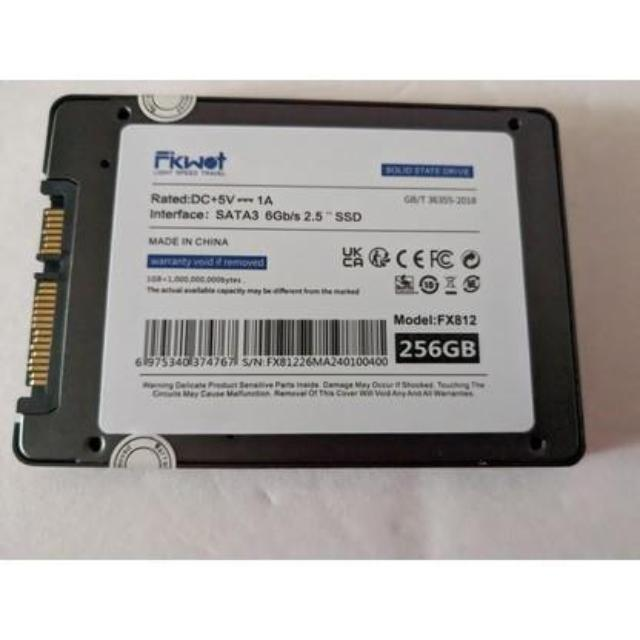DISK: (1, 94, 590, 483)
